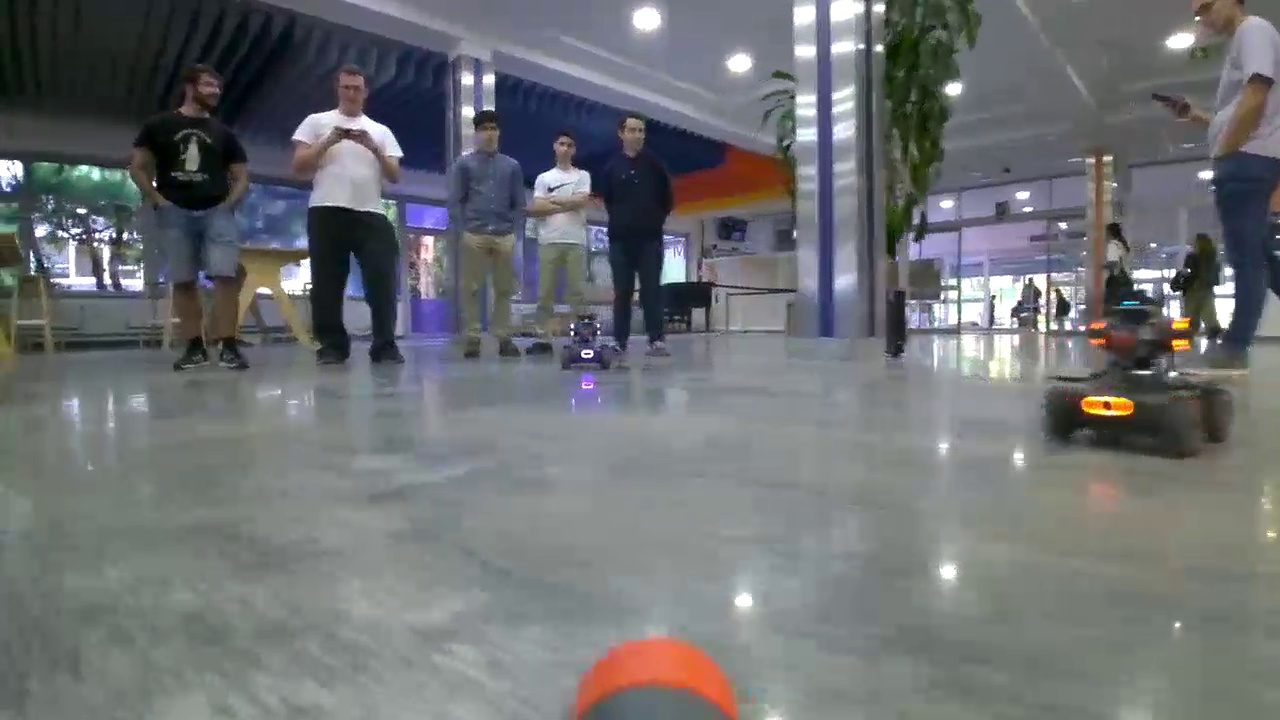robot: (1045, 296, 1234, 444), (562, 315, 616, 369)
